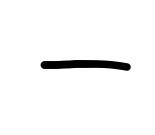minus: (41, 58, 132, 73)
